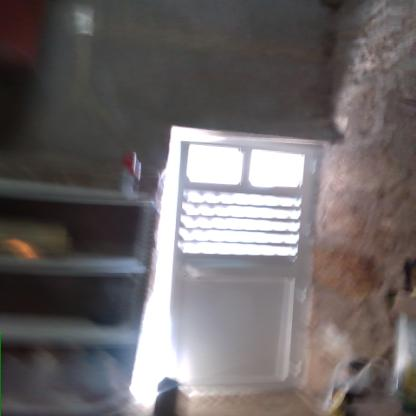closed: (172, 131, 325, 399)
